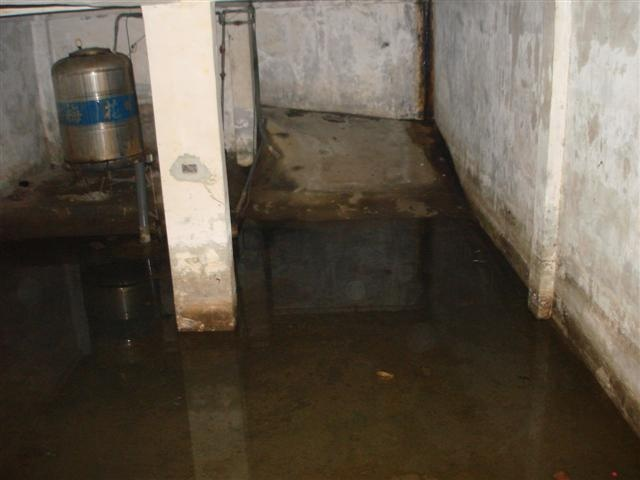water_tower: (51, 45, 148, 198)
